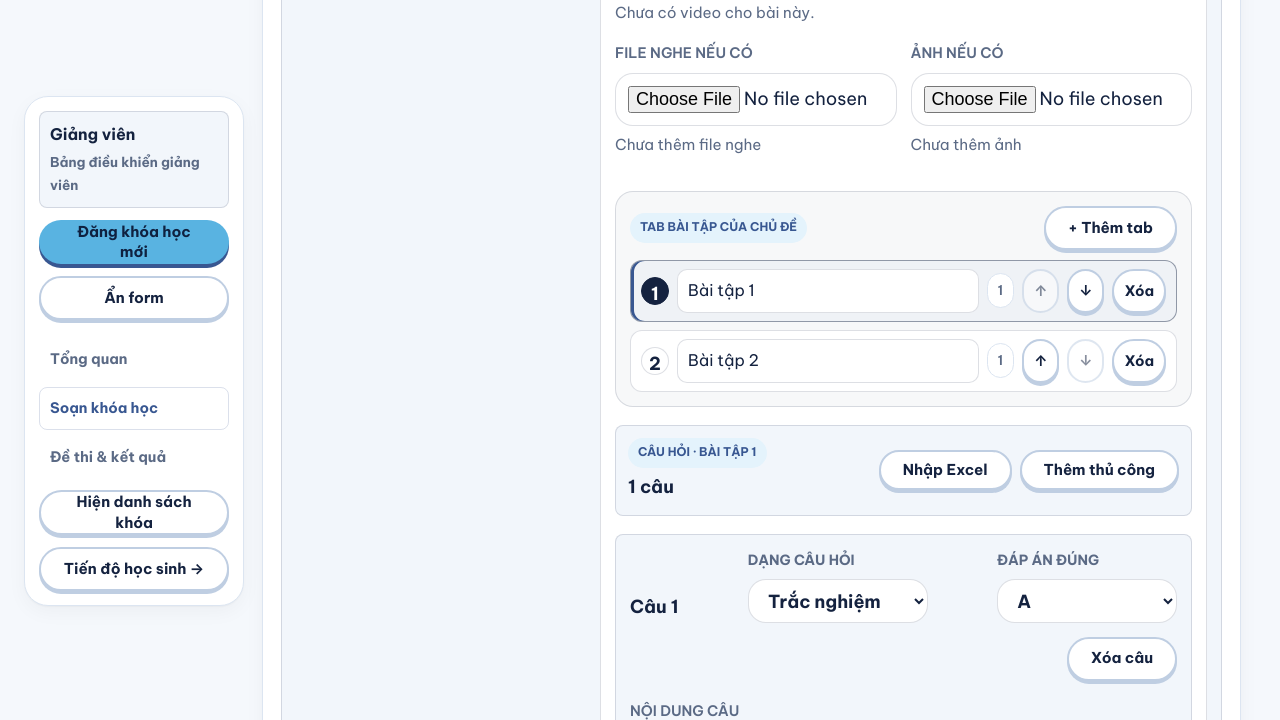
it: TeacherDashboardPage — tab bài tập của một bài học › đổi tên tab đang mở thì vẫn đứng ở tab đó
This screenshot has width=1280, height=720.
(page scrolled)
Expected: the 1st field showing "Bài tập 1" is shown, [677,269,978,312]
Click the button with class "draft-tab-chip__select" showing "2".
click(655, 361)  # box [641,347,669,375]
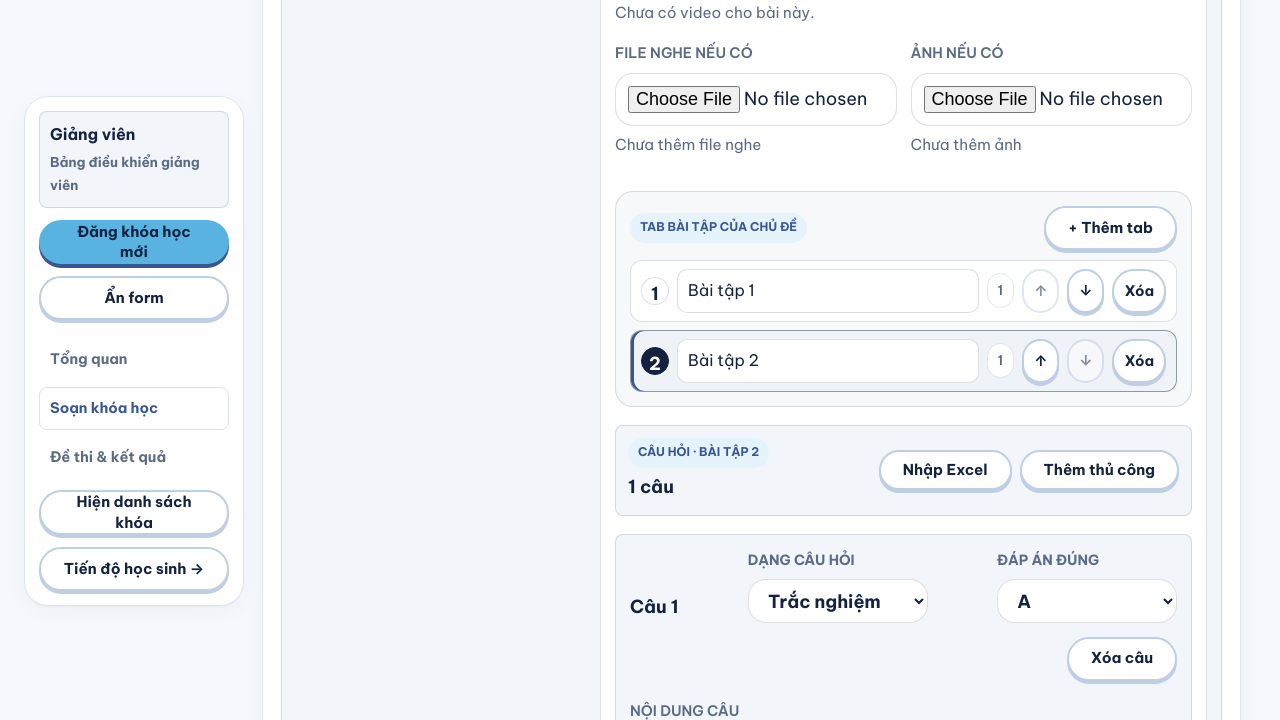
Replace the text in the 2nd field with class "draft-tab-chip__title" with "Bài tập nghe" at (828, 361), box [677,339,978,382]
(page scrolled)
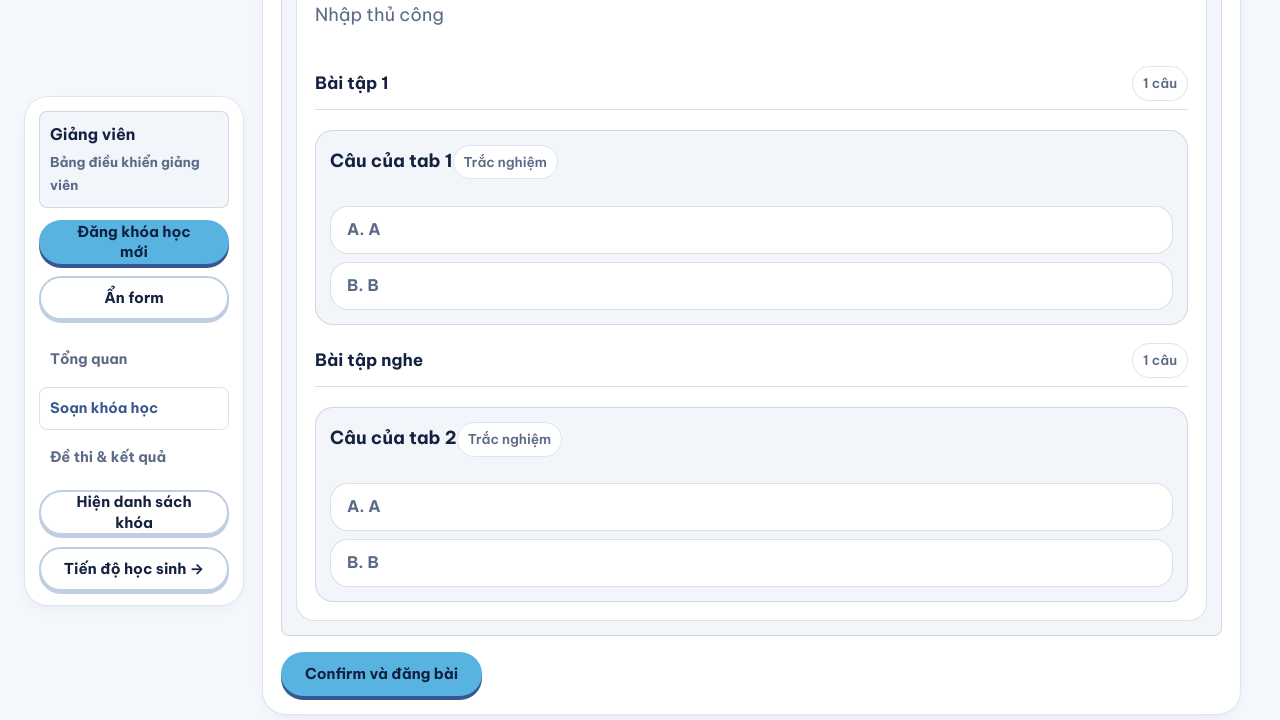
Now the text "Bài tập nghe" is shown, box [315,346,423,375]
